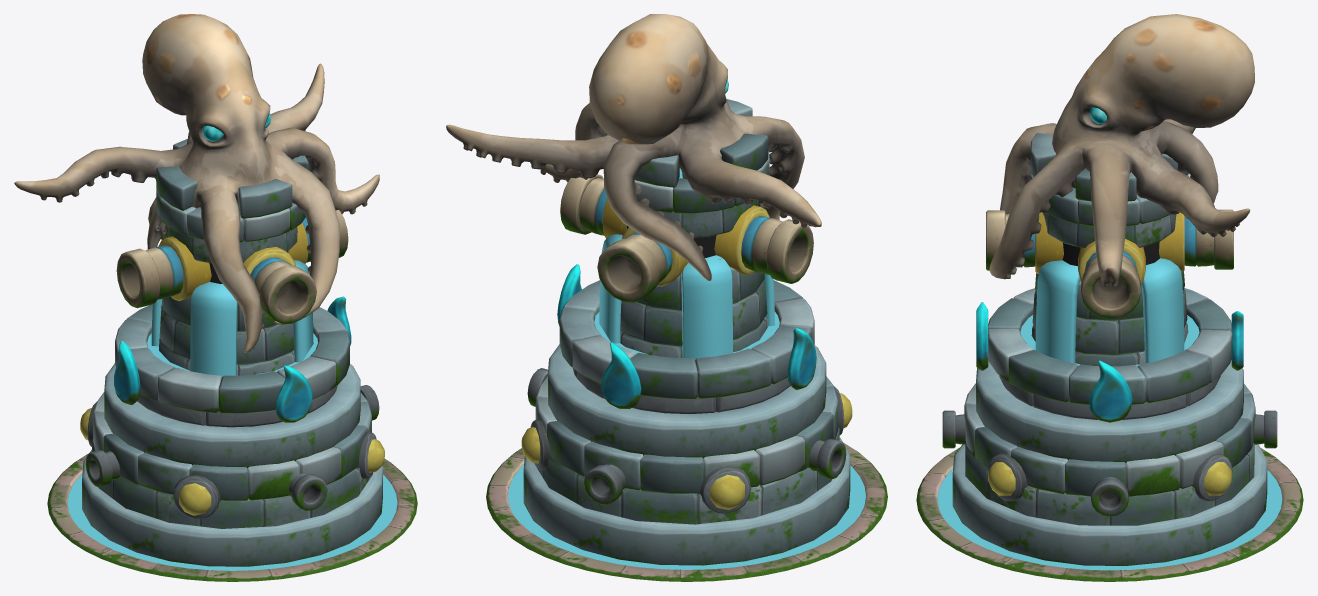
Rendered from SM_TowerDefense_Aqua_Lv4.fbx.
3 renders of one model, left to right at view 1: azimuth 30°, elevation 25°; view 2: azimuth 150°, elevation 25°; view 3: azimuth 270°, elevation 25°, orthographic. The views are drawn at different scales.
Parts seen in each view (by area): view 1: SM_TowerDefense_Aqua_Lv4; view 2: SM_TowerDefense_Aqua_Lv4; view 3: SM_TowerDefense_Aqua_Lv4.
Part boxes in pixels (x1,y1,x2,y2): SM_TowerDefense_Aqua_Lv4: (14, 14, 417, 581); SM_TowerDefense_Aqua_Lv4: (446, 14, 887, 581); SM_TowerDefense_Aqua_Lv4: (916, 14, 1303, 581).
Bounding box in the file's own units: 1144 × 1537 × 1108.
